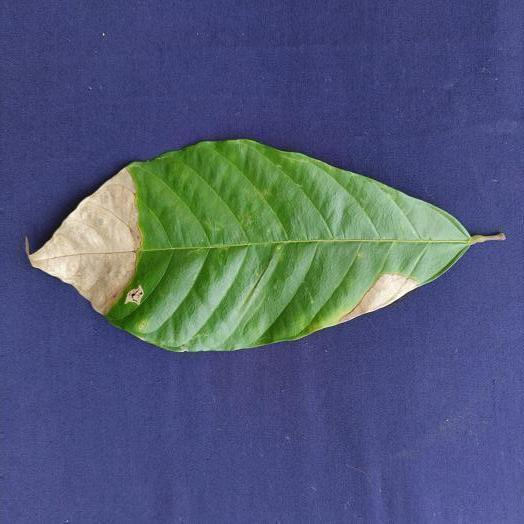Potassium: (28, 139, 504, 350)
